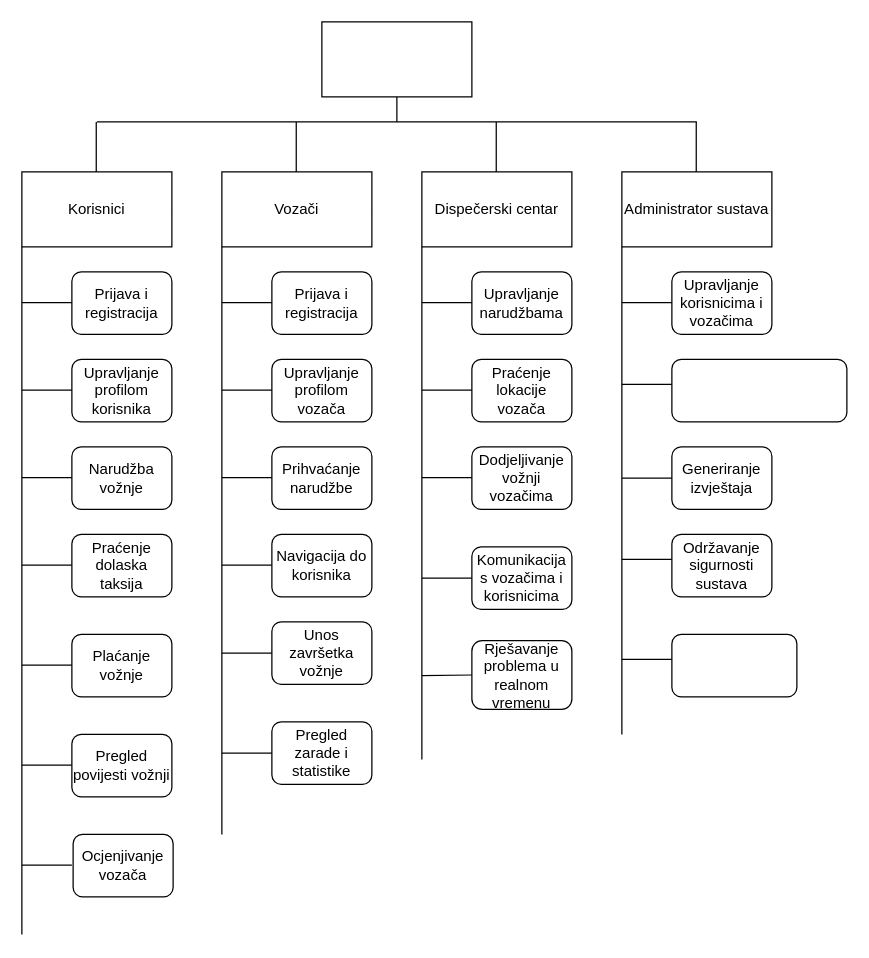
This 869x958 diagram has some shape labels left out. The centre of each missing label's shape, as x and y in pixels:
"Informacijski sustav za taksi službu" belongs at pixel 396 59.
"Upravljanje sustavom (npr. ažuriranje tarifa)" belongs at pixel 759 390.
"Upravljanje svim funkcionalnostima" belongs at pixel 734 665.
